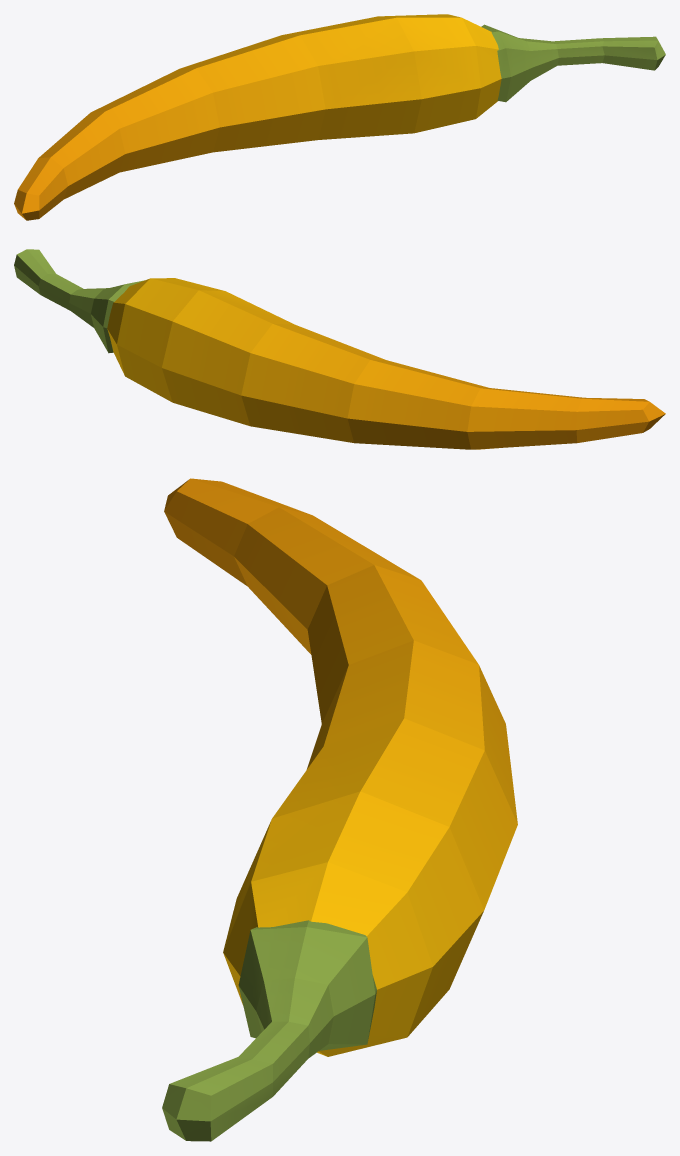
File: chili_pepper_2.glb
The picture shows the model from 3 angles, top to bottom: view 1: azimuth 30°, elevation 25°; view 2: azimuth 150°, elevation 25°; view 3: azimuth 270°, elevation 25°; orthographic projection. The views are drawn at different scales.
Parts seen in each view (by area): view 1: chili_pepper_2; view 2: chili_pepper_2; view 3: chili_pepper_2.
Part boxes in pixels (<box>): chili_pepper_2: <box>14,14,665,220</box>; chili_pepper_2: <box>14,249,665,449</box>; chili_pepper_2: <box>162,478,517,1141</box>.
Size of the model in its own units: 0.1819 by 0.0307 by 0.0437.
Materials: 1 (1 with a texture image).
